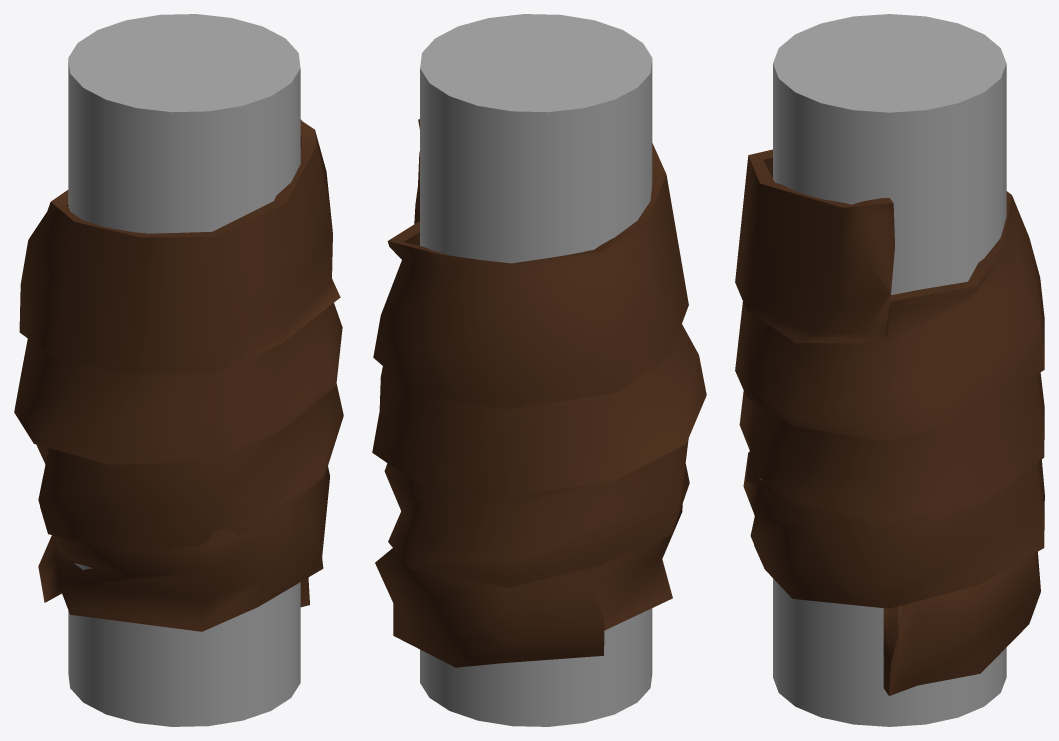
File: Leather.fbx
3 renders of one model, left to right at view 1: azimuth 30°, elevation 25°; view 2: azimuth 150°, elevation 25°; view 3: azimuth 270°, elevation 25°, orthographic.
Visible parts, largest first — view 1: pCylinder3; view 2: pCylinder3; view 3: pCylinder3.
Part boxes in pixels (bbox=[...]): pCylinder3: bbox=[14, 14, 343, 726]; pCylinder3: bbox=[372, 14, 706, 726]; pCylinder3: bbox=[735, 14, 1044, 726].
Size of the model in its own units: 3.63 by 6.9 by 3.15.
